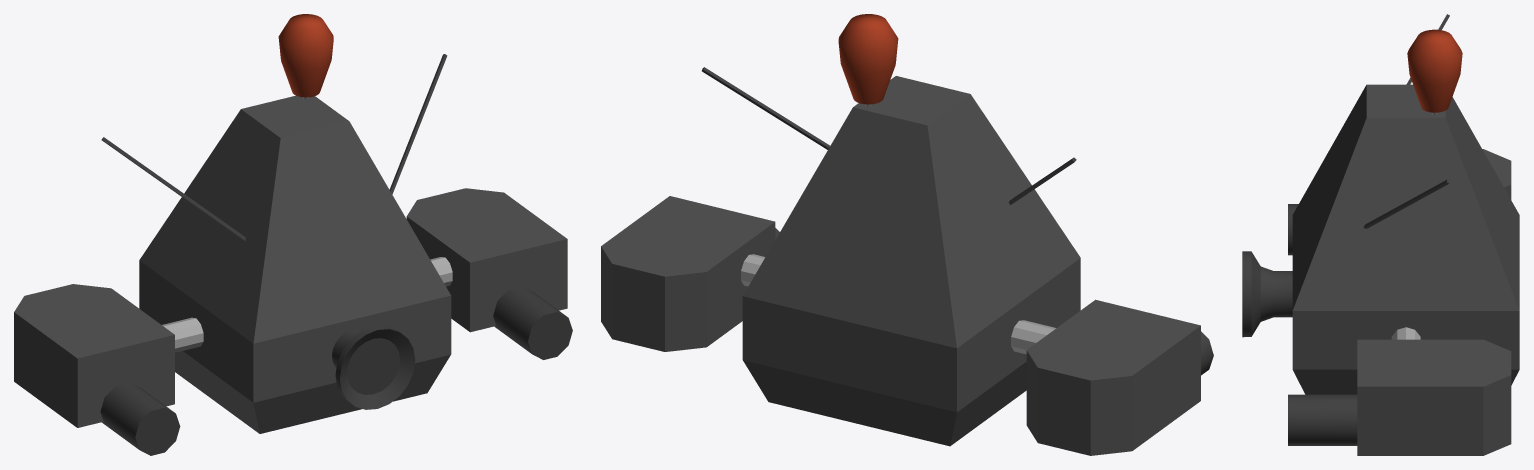
Rendered from grp_enemy_Fly_001.fbx.
3 views of the same model, side by side, from view 1: azimuth 30°, elevation 25°; view 2: azimuth 150°, elevation 25°; view 3: azimuth 270°, elevation 25° (orthographic). The views are drawn at different scales.
Parts seen in each view (by area): view 1: pCube1, pCube2, pCube3, pCylinder5, pCylinder3, pCylinder4, pCylinder6, pCylinder2, pCylinder8, pCylinder9; view 2: pCube1, pCube2, pCube3, pCylinder6, pCylinder2, pCylinder9; view 3: pCube1, pCube3, pCylinder4, pCylinder6, pCylinder5, pCube2, pCylinder9, pCylinder2, pCylinder3.
Boxes of the visible parts, box(x1,y1,x2,y2) form: pCube1: box(139, 95, 451, 433); pCube2: box(14, 284, 174, 427); pCube3: box(406, 188, 567, 332); pCylinder5: box(332, 326, 415, 409); pCylinder3: box(100, 382, 180, 455); pCylinder4: box(493, 286, 572, 359); pCylinder6: box(278, 14, 333, 97); pCylinder2: box(162, 257, 452, 352); pCylinder8: box(101, 137, 245, 240); pCylinder9: box(389, 54, 447, 194); pCube1: box(742, 76, 1080, 446); pCube2: box(1026, 299, 1200, 455); pCube3: box(601, 196, 775, 351); pCylinder6: box(838, 14, 898, 104); pCylinder2: box(741, 254, 1056, 354); pCylinder9: box(702, 67, 829, 149); pCube1: box(1292, 84, 1519, 394); pCube3: box(1357, 339, 1511, 455); pCylinder4: box(1288, 394, 1357, 445); pCylinder6: box(1407, 29, 1462, 112); pCylinder5: box(1242, 251, 1292, 337); pCube2: box(1482, 149, 1511, 199); pCylinder9: box(1363, 179, 1449, 228); pCylinder2: box(1391, 327, 1420, 339); pCylinder3: box(1288, 204, 1298, 255).
Bounding box in the file's own units: 761 × 529 × 375.
